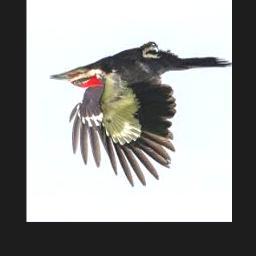Woodpecker: (48, 41, 231, 188)
